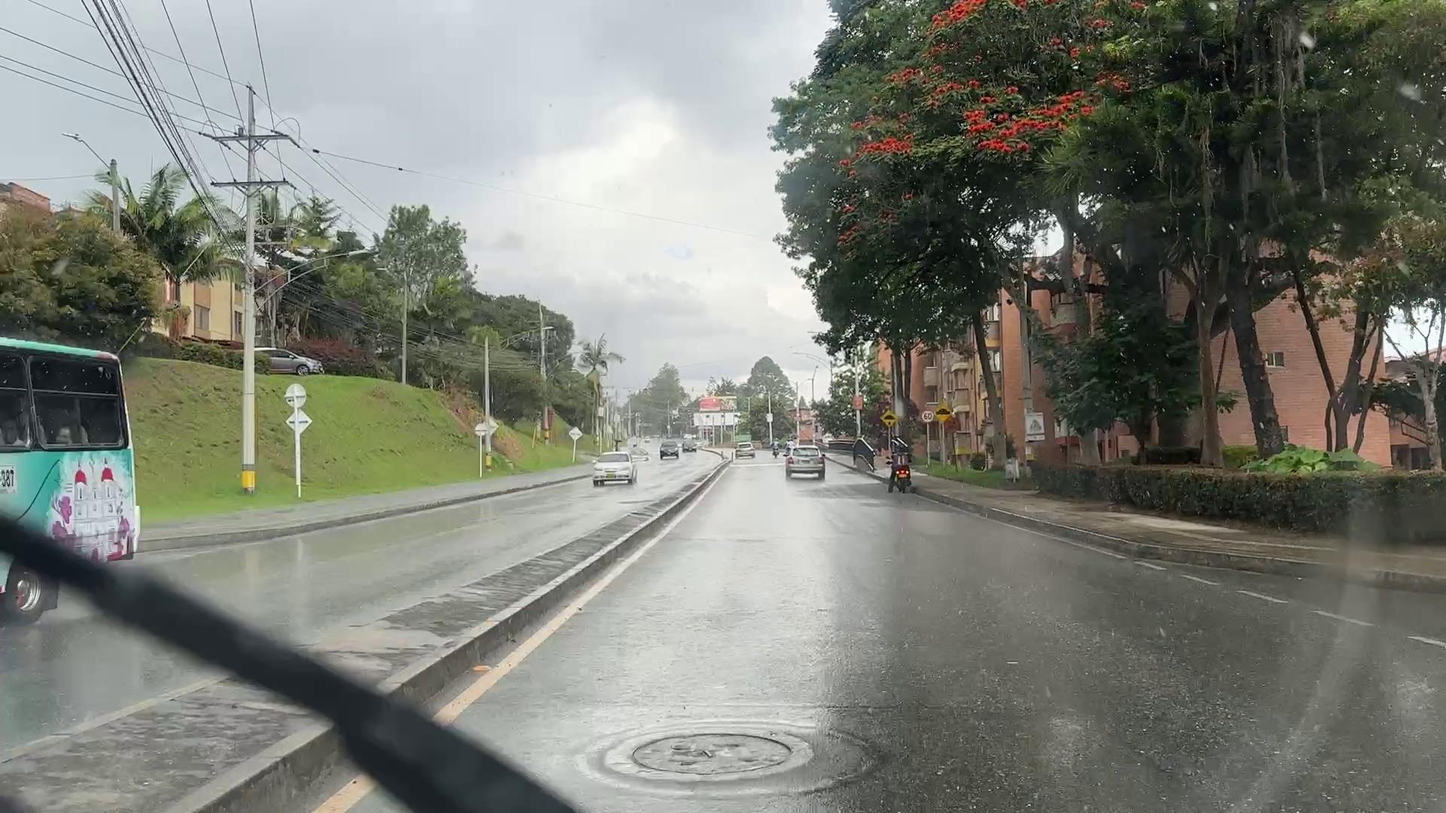registro: (634, 734, 790, 774)
